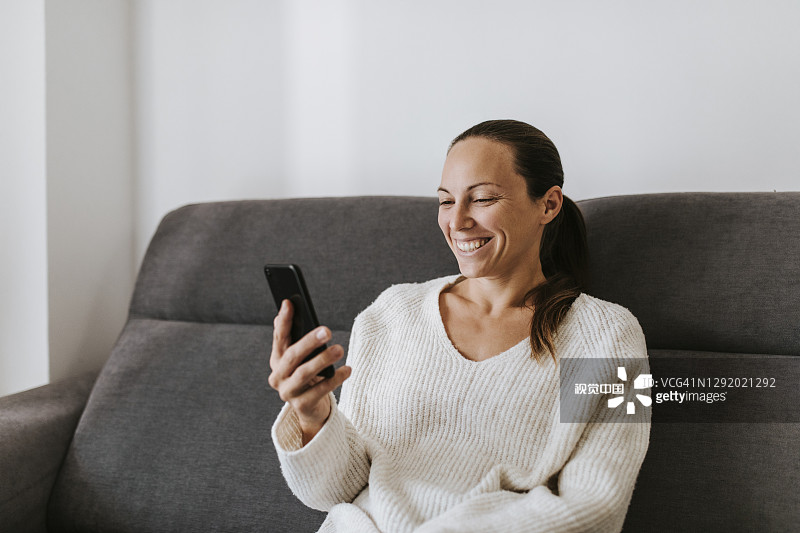reading: (242, 246, 356, 446)
